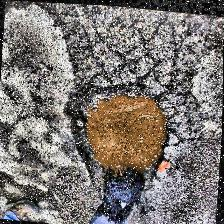pothole: (70, 83, 170, 189)
